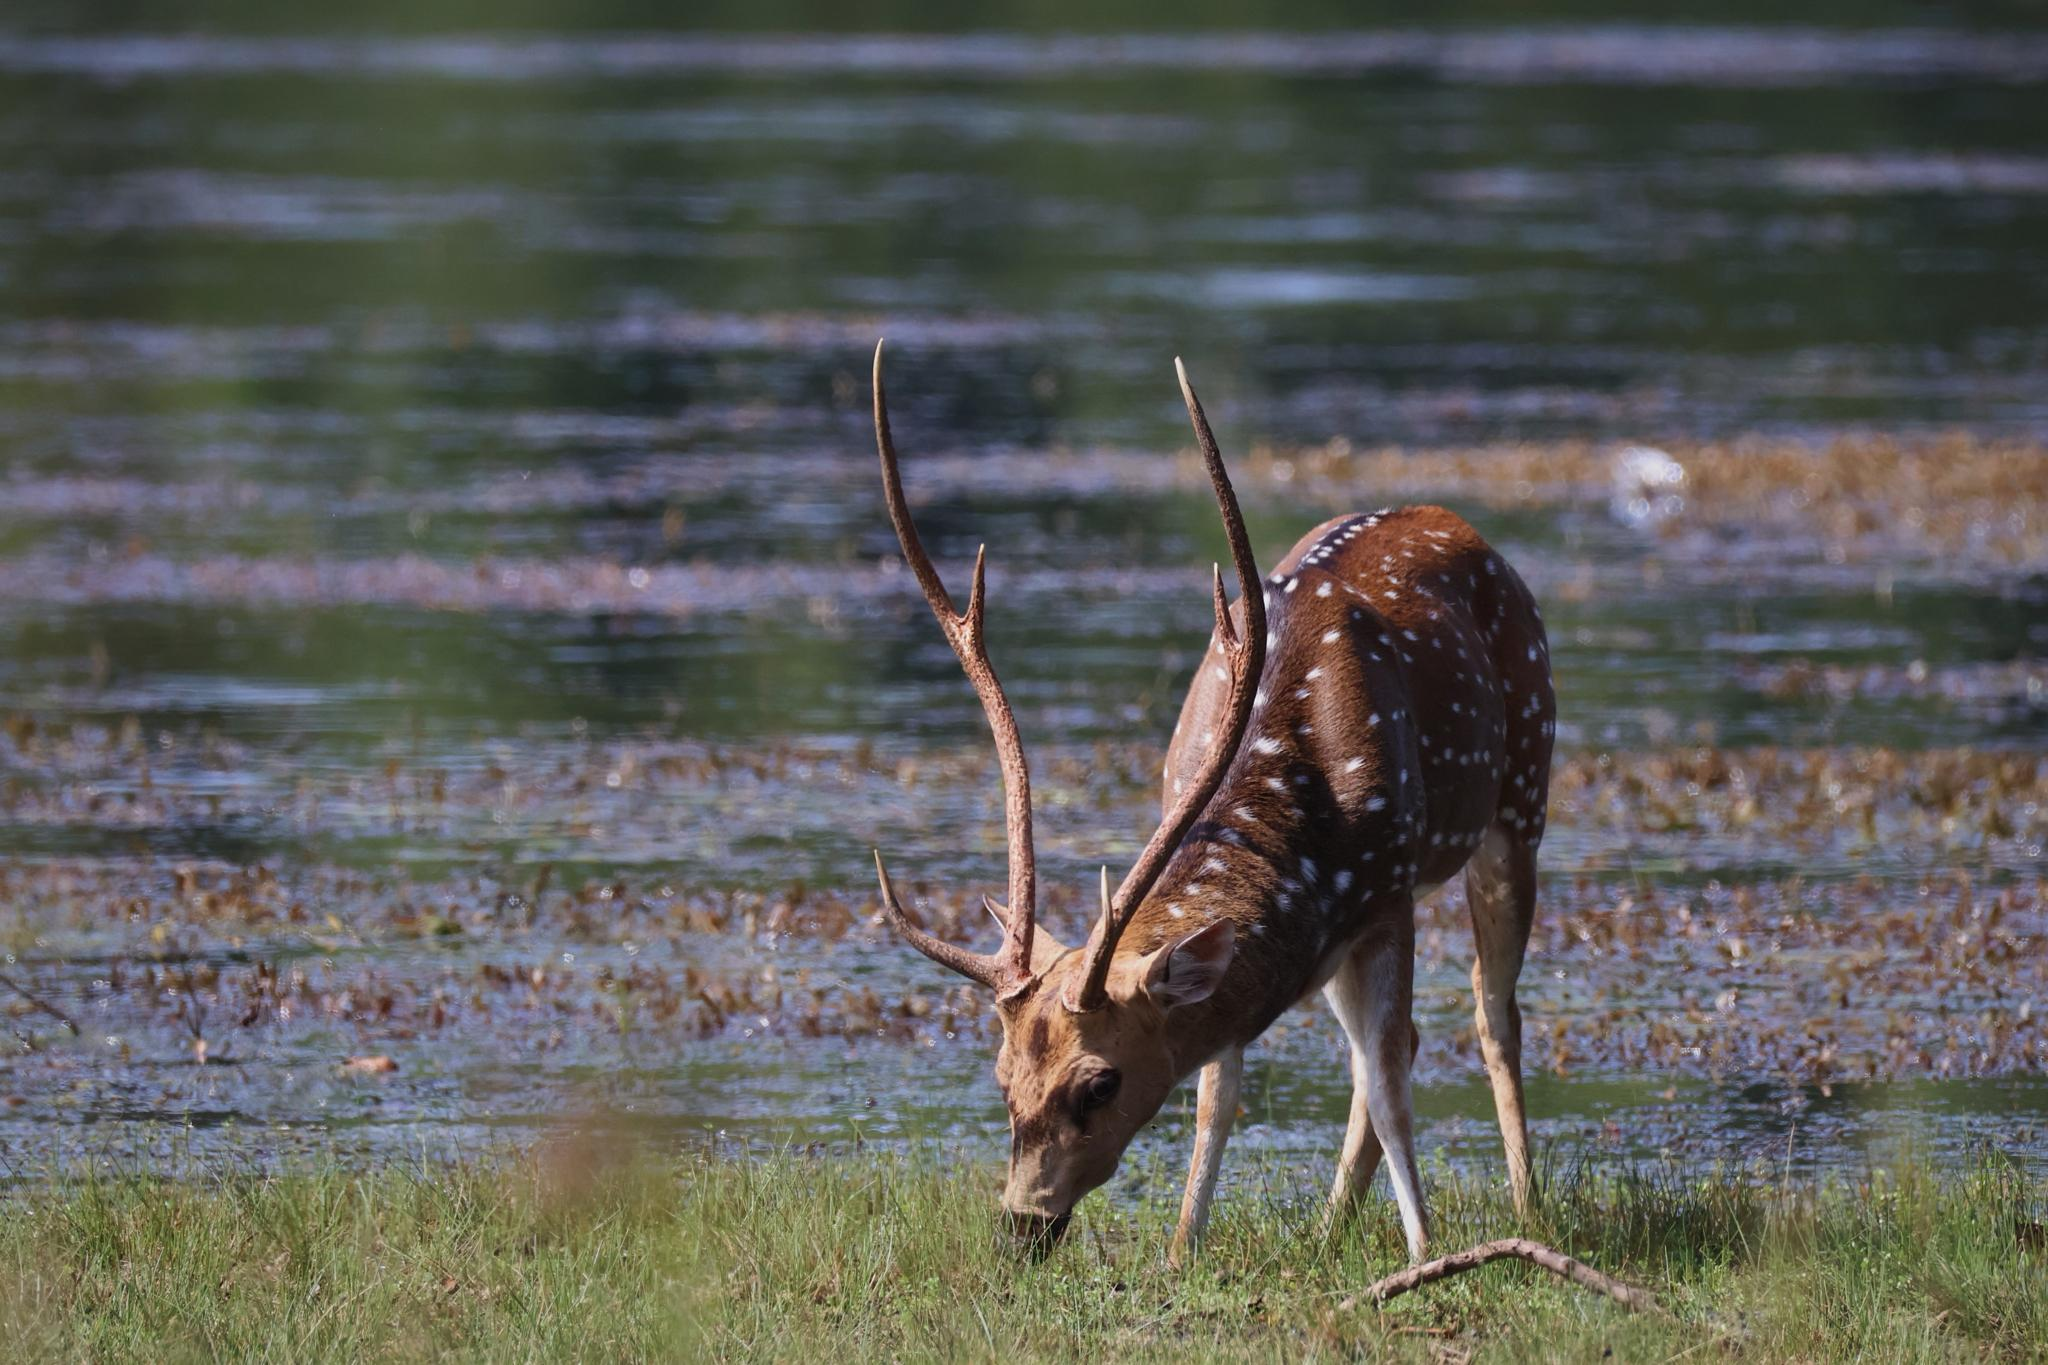Deer: (872, 347, 1555, 1261)
